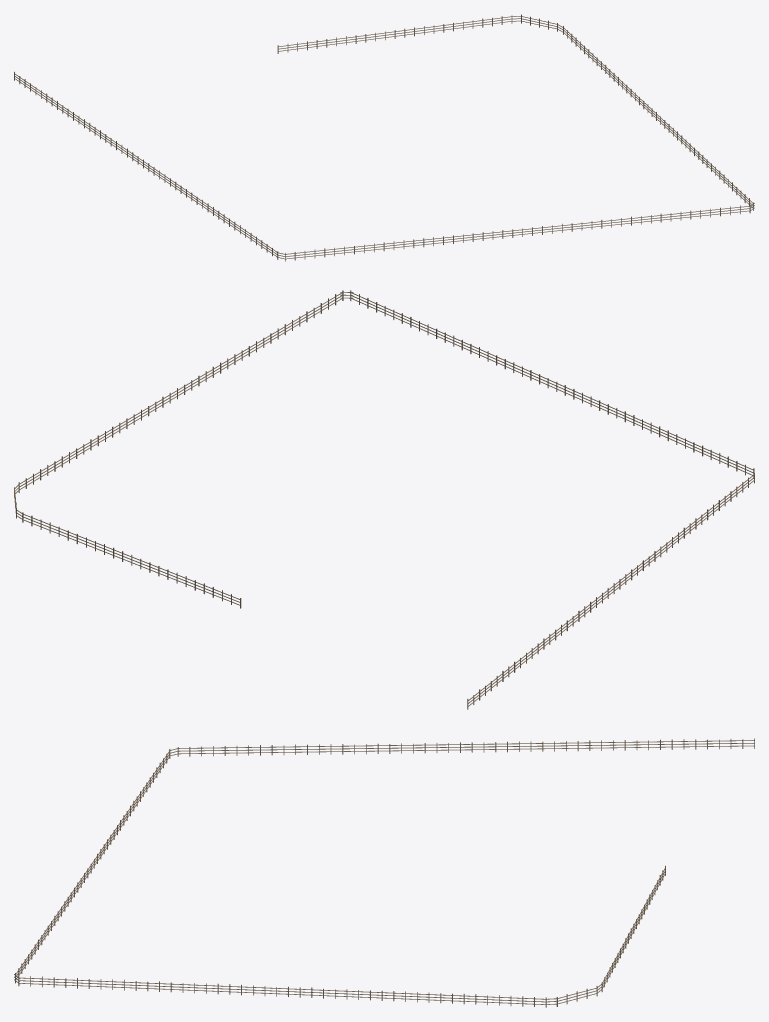
Rendered from border_00030.glb.
3 views of the same model, one above another, from view 1: azimuth 30°, elevation 25°; view 2: azimuth 150°, elevation 25°; view 3: azimuth 270°, elevation 25° (orthographic). The views are drawn at different scales.
Parts seen in each view (by area): view 1: Fence rails, Fence posts; view 2: Fence rails, Fence posts; view 3: Fence rails, Fence posts.
Part boxes in pixels (box(x1,y1,x2,y2)): Fence rails: box(14, 16, 754, 259); Fence posts: box(14, 14, 753, 261); Fence rails: box(14, 292, 754, 706); Fence posts: box(14, 290, 754, 709); Fence rails: box(14, 740, 754, 1004); Fence posts: box(15, 738, 754, 1007).
Bounding box in the file's own units: 112 × 2.1 × 135.
